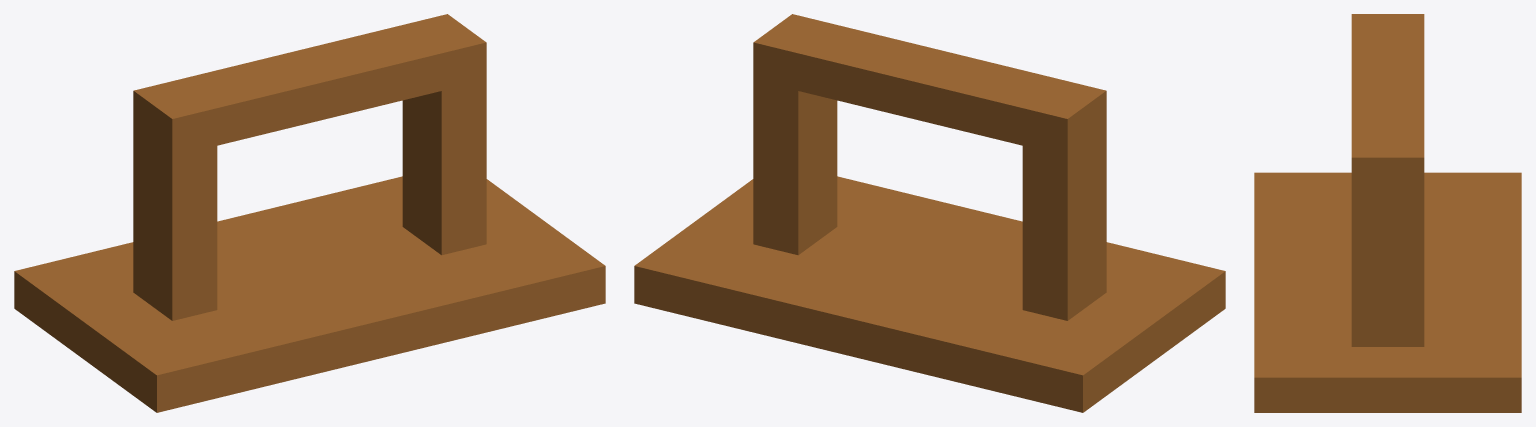
3 views of the same model, side by side, from view 1: azimuth 30°, elevation 25°; view 2: azimuth 150°, elevation 25°; view 3: azimuth 270°, elevation 25° (orthographic). The views are drawn at different scales.
Parts seen in each view (by area): view 1: Bridge study; view 2: Bridge study; view 3: Bridge study.
Part boxes in pixels (bbox=[...]): Bridge study: bbox=[14, 14, 605, 412]; Bridge study: bbox=[634, 14, 1225, 412]; Bridge study: bbox=[1254, 14, 1521, 412].
Bounding box in the file's own units: 0.1 × 0.051 × 0.055.
